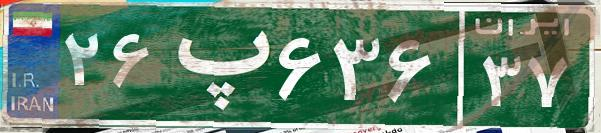2: (57, 26, 110, 107)
3: (330, 28, 385, 110), (475, 38, 525, 113)
6: (385, 28, 445, 110), (273, 28, 330, 110), (110, 28, 158, 105)
7: (525, 38, 570, 115)
پ: (158, 15, 273, 115)
